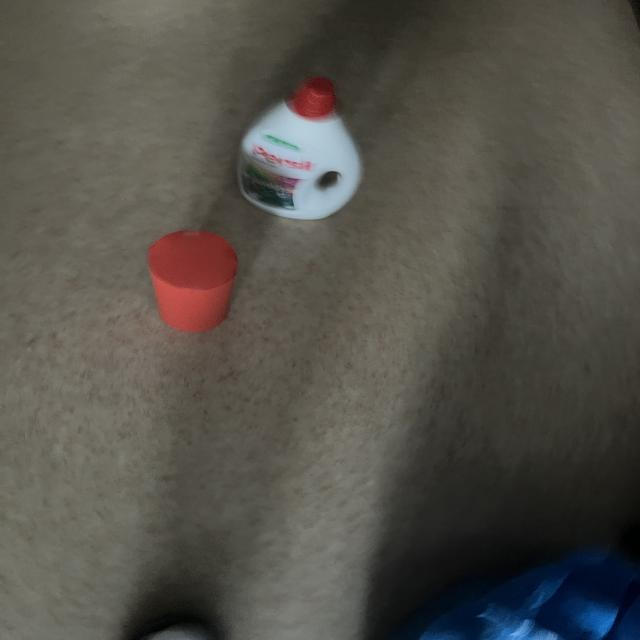przeszkoda: (147, 230, 237, 333)
